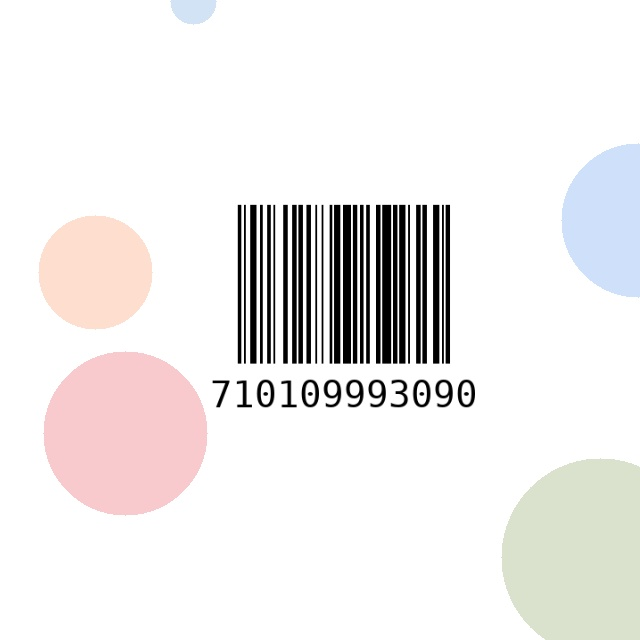barcode: (211, 195, 477, 445)
